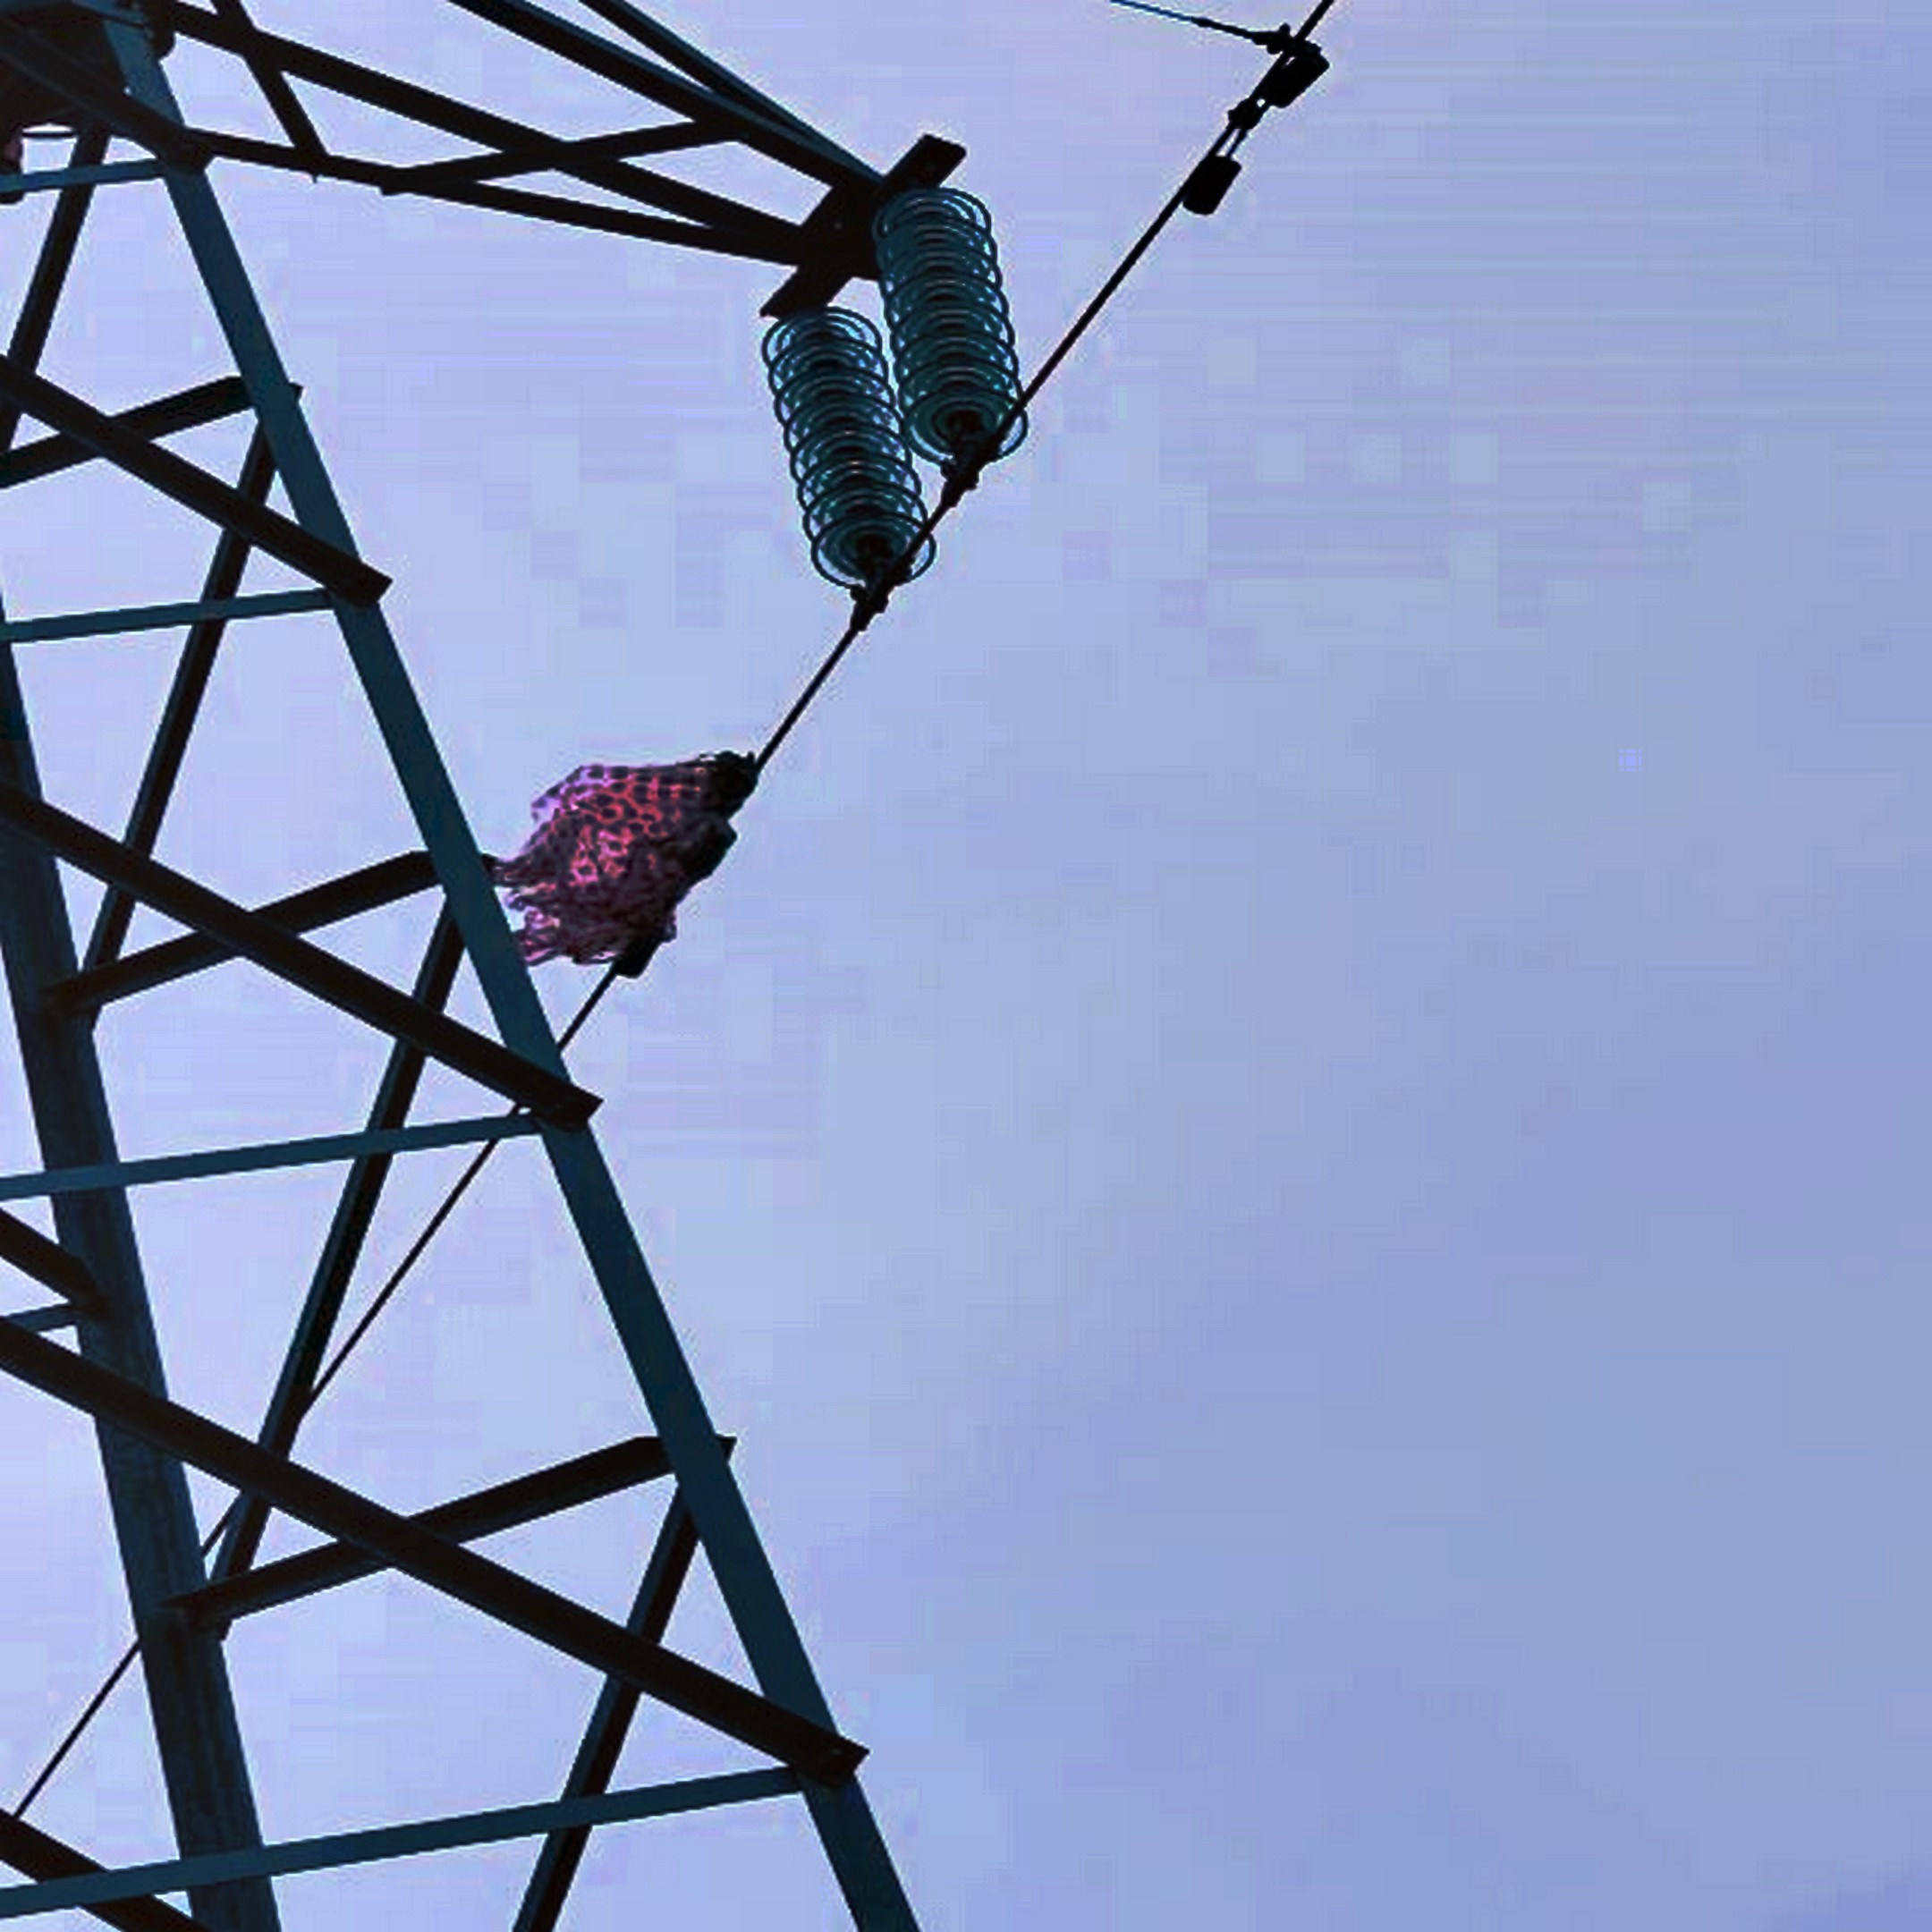wire foreign body: (483, 729, 787, 1019)
